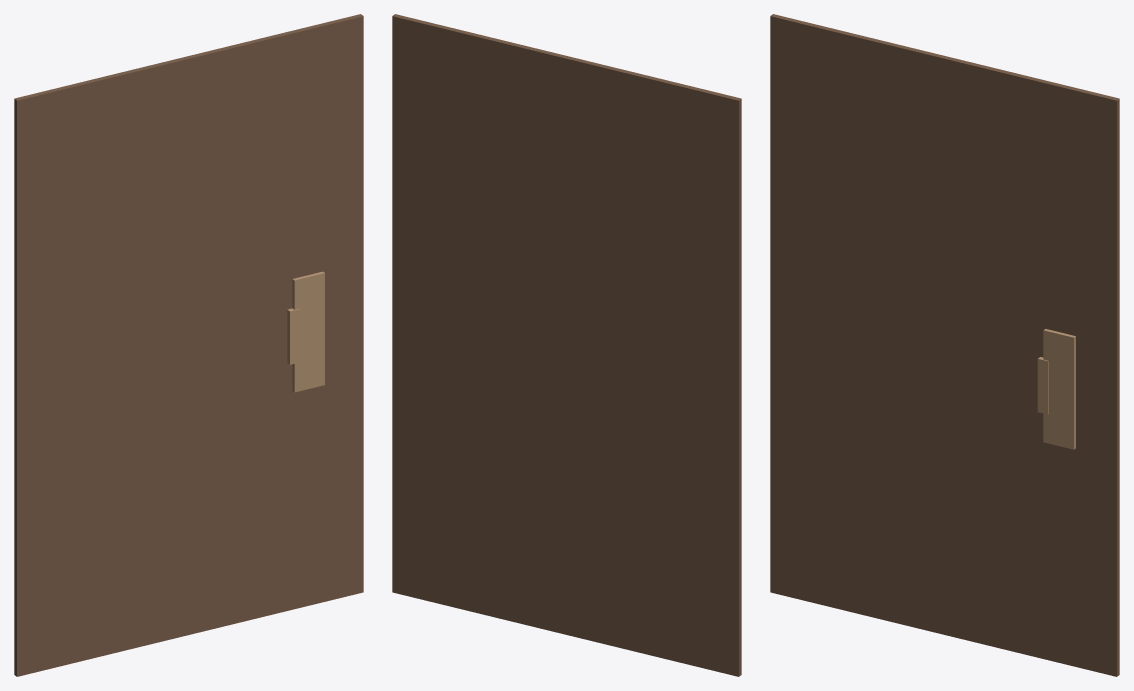
The picture shows the model from 3 angles, left to right: view 1: azimuth 30°, elevation 25°; view 2: azimuth 150°, elevation 25°; view 3: azimuth 330°, elevation 25°; orthographic projection.
Parts seen in each view (by area): view 1: exterior-door-leaf, handle-plate, handle-grip; view 2: exterior-door-leaf; view 3: exterior-door-leaf, handle-plate, handle-grip.
Part boxes in pixels (x1,y1,x2,y2): exterior-door-leaf: [14, 14, 363, 676]; handle-plate: [292, 271, 324, 392]; handle-grip: [287, 308, 300, 364]; exterior-door-leaf: [392, 14, 741, 676]; exterior-door-leaf: [770, 14, 1119, 676]; handle-plate: [1043, 329, 1075, 449]; handle-grip: [1037, 357, 1048, 414].
Size of the model in its own units: 1.36 by 2.16 by 0.038.
